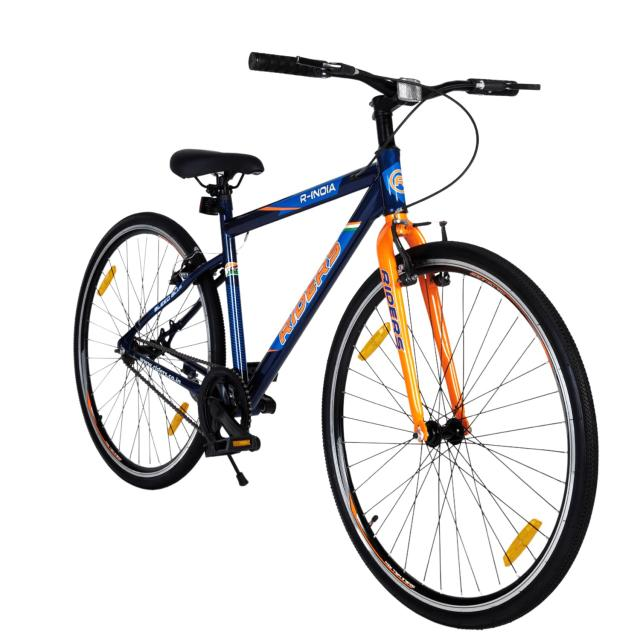bicycle: (75, 52, 598, 628)
